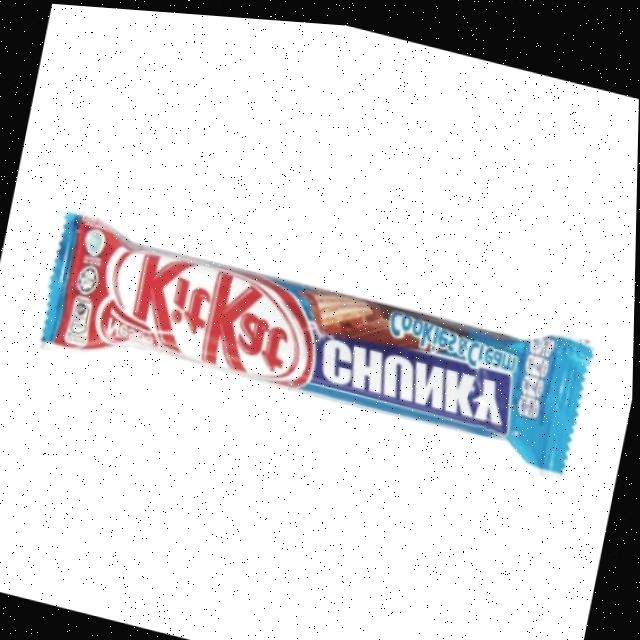kitkat: (41, 207, 594, 464)
